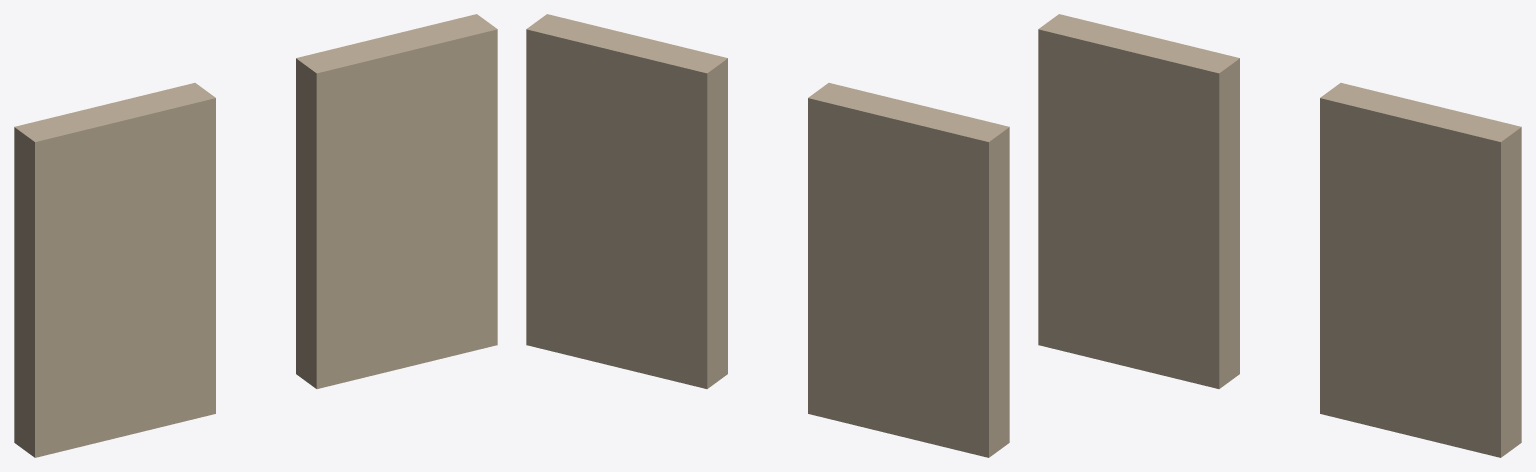
File: road_gap.glb
The picture shows the model from 3 angles, left to right: view 1: azimuth 30°, elevation 25°; view 2: azimuth 150°, elevation 25°; view 3: azimuth 330°, elevation 25°; orthographic projection.
Visible parts, largest first — view 1: part_0, part_1; view 2: part_0, part_1; view 3: part_0, part_1.
Boxes of the visible parts, <box> form: part_0: <box>14,83,215,457</box>; part_1: <box>296,14,497,388</box>; part_0: <box>808,83,1009,457</box>; part_1: <box>526,14,727,388</box>; part_0: <box>1038,14,1239,388</box>; part_1: <box>1320,83,1521,457</box>.
Bounding box in the file's own units: 2.3 × 1.5 × 0.18.
